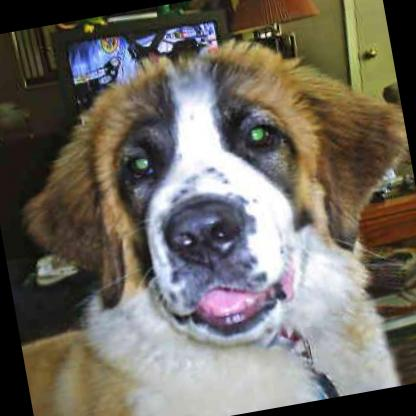Saint_Bernard: (0, 11, 416, 416)
